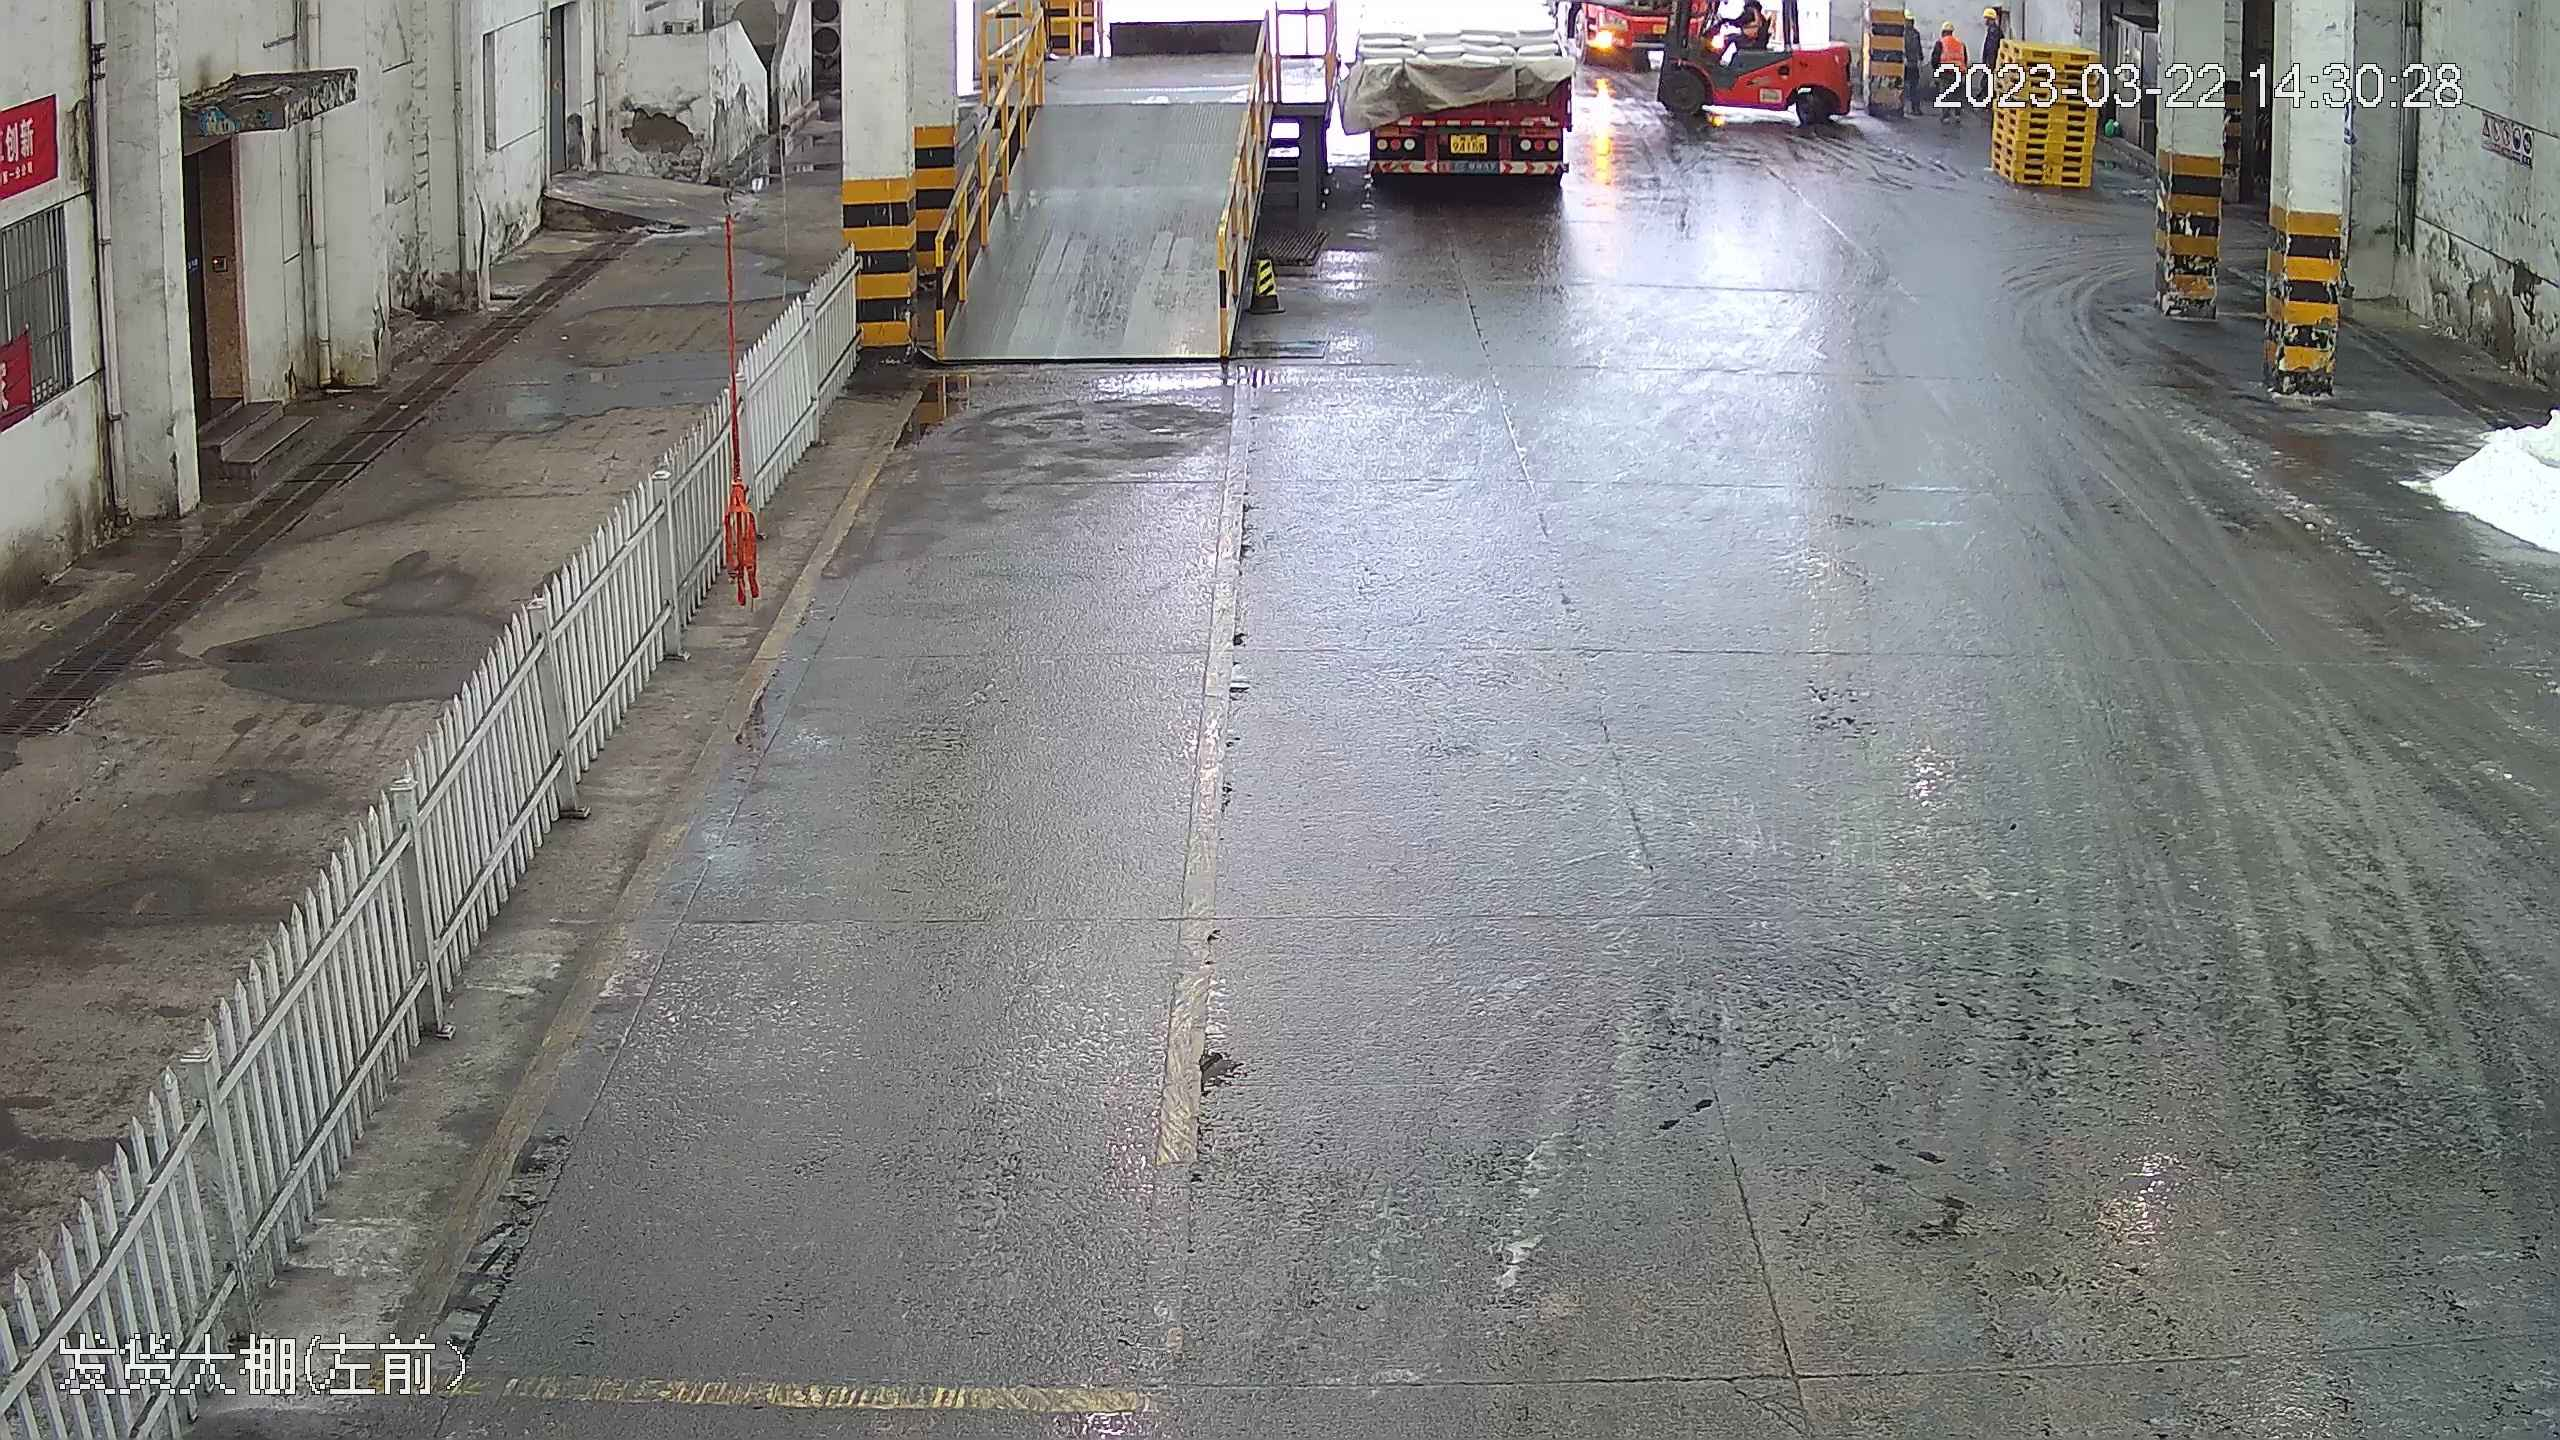head: (1932, 20, 1966, 72), (1975, 4, 2009, 42)
helmet: (1982, 5, 1996, 22), (1940, 19, 1955, 33)
people: (1930, 15, 1967, 125), (1973, 1, 2008, 94)
truck: (1331, 8, 1598, 189)
